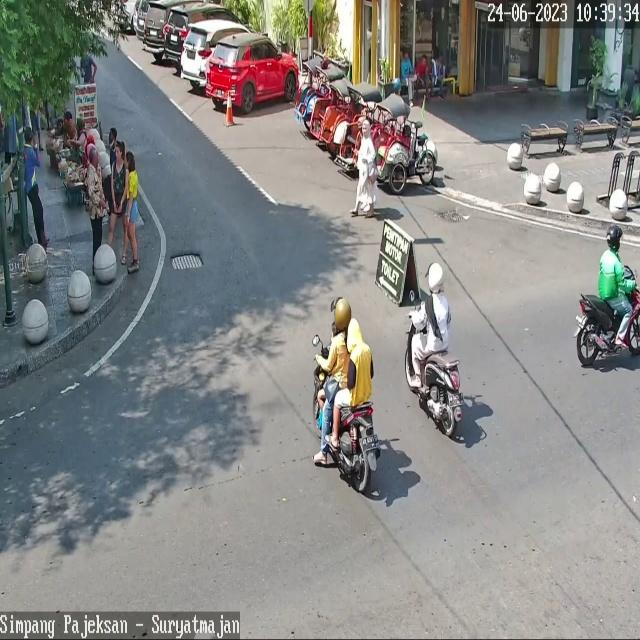bus: (313, 343, 382, 492), (404, 299, 464, 436), (576, 266, 640, 366)
motorcycle: (206, 34, 300, 114), (180, 21, 252, 88), (163, 3, 243, 60), (143, 0, 169, 53)
